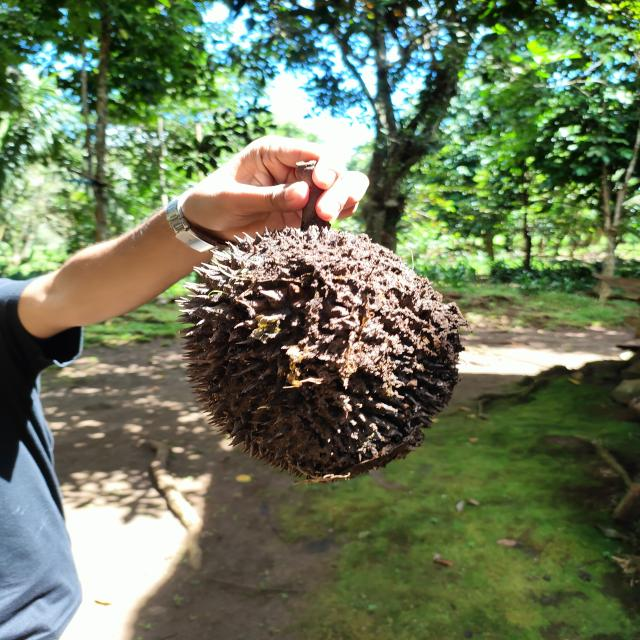defective: (178, 224, 470, 484)
